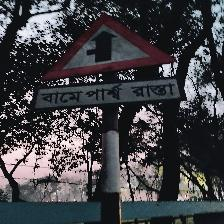Side-road-left: (36, 13, 181, 113)
